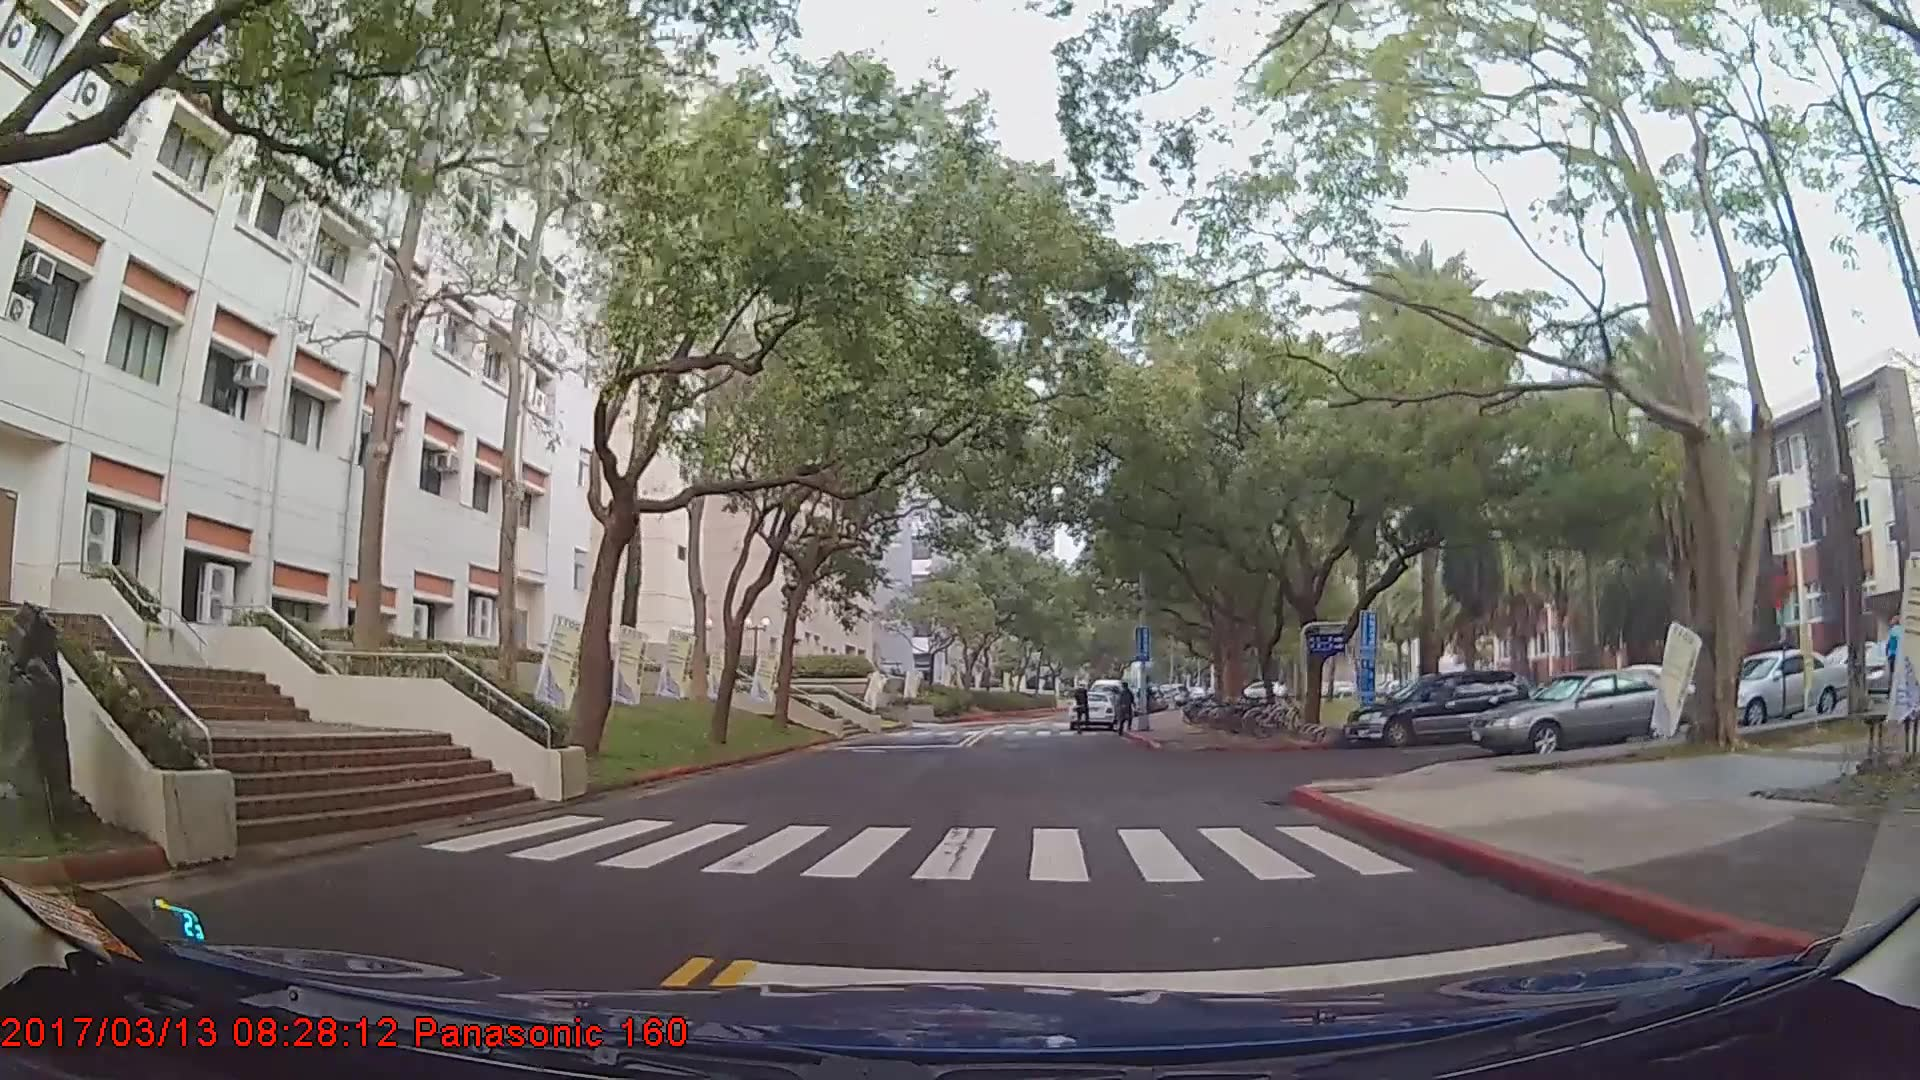pedestrian: (1876, 607, 1903, 702), (1116, 681, 1141, 733), (1075, 684, 1095, 736)
vehicle: (1471, 664, 1694, 758), (1341, 667, 1527, 750), (1712, 648, 1852, 727), (1066, 690, 1116, 731)
